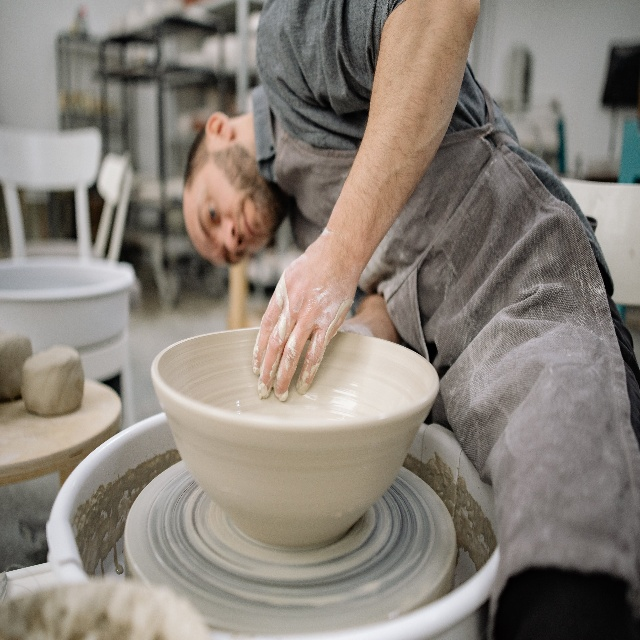Sin_guantes: (252, 237, 355, 401)
